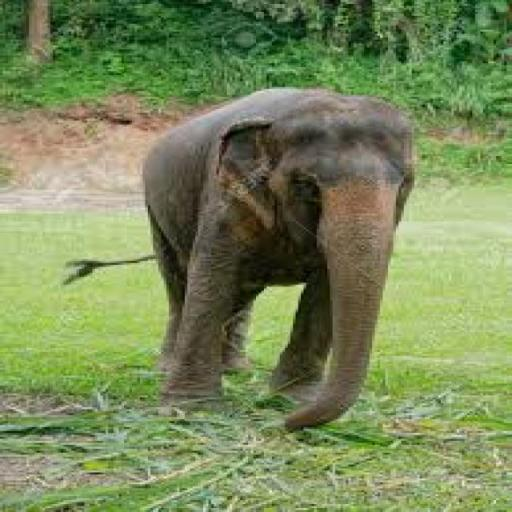Elephant: (140, 85, 414, 431)
